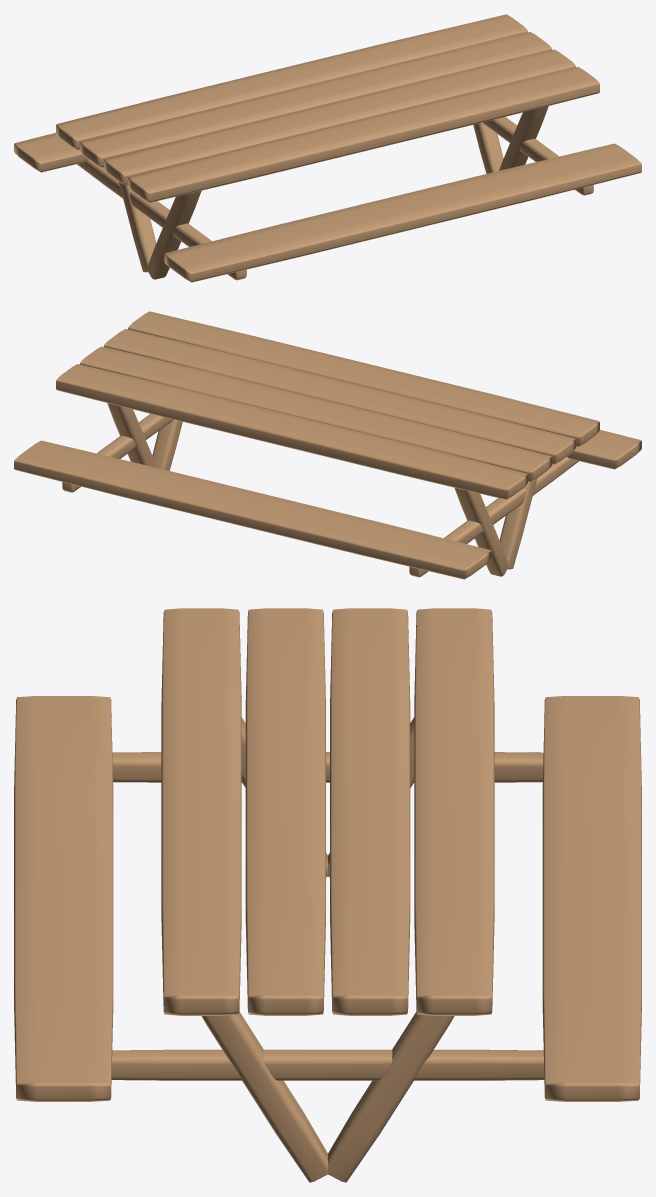
Rendered from PrimeCutTable.glb.
3 views of the same model, one above another, from view 1: azimuth 30°, elevation 25°; view 2: azimuth 150°, elevation 25°; view 3: azimuth 270°, elevation 25° (orthographic). The views are drawn at different scales.
Visible parts, largest first — view 1: Wood; view 2: Wood; view 3: Wood.
Part boxes in pixels (box(x1,y1,x2,y2)): Wood: box(14, 14, 641, 282); Wood: box(14, 311, 641, 579); Wood: box(14, 608, 641, 1182).
Size of the model in its own units: 12 by 3.31 by 8.2.
